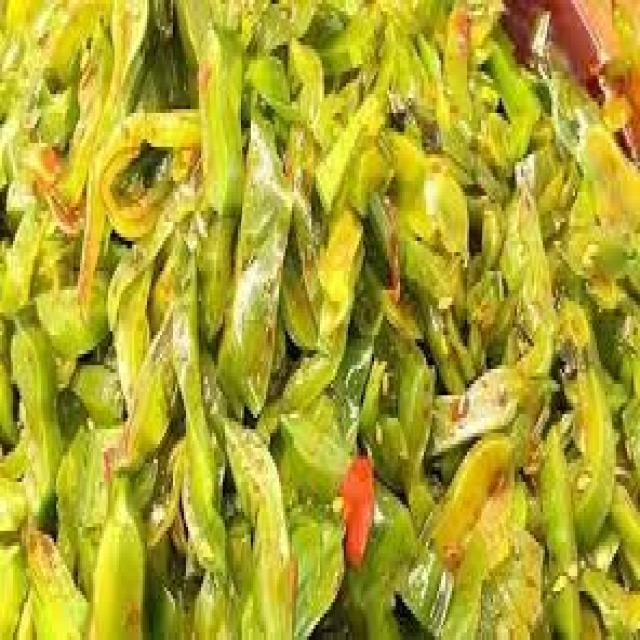organic waste: (0, 0, 638, 636), (175, 0, 247, 335), (409, 426, 510, 636), (220, 110, 286, 410), (275, 192, 361, 407), (214, 407, 292, 636), (558, 301, 612, 557), (540, 410, 584, 636), (281, 396, 346, 508), (577, 550, 638, 636), (607, 471, 638, 584)
